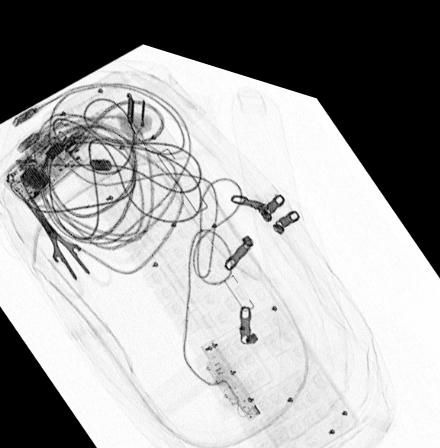Scissors: (13, 181, 114, 297)
